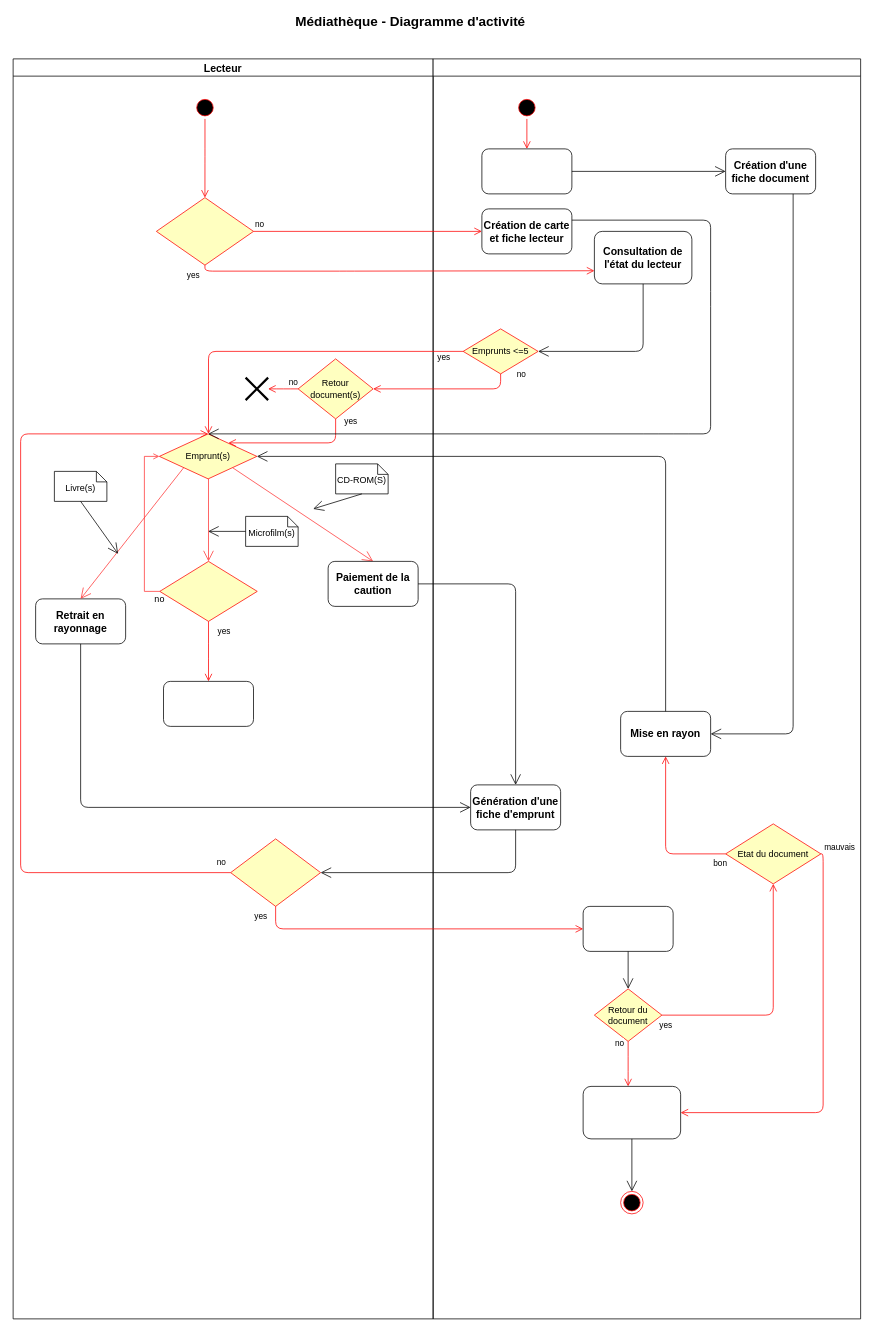
Image size: 874x1332. Some labels were removed from this diagram. Each missing label, with the box of its shape:
Achat de documents: (481, 148, 572, 194)
Consultation sur place: (163, 681, 254, 726)
Délai de retour > 4 semaines: (230, 838, 321, 906)
Ecran libre: (159, 561, 257, 621)
Employé: (432, 58, 861, 1319)
Envoi d'une lettre de relance: (582, 906, 673, 951)
Modification de la fiche document (perdu, volé, abîmé): (582, 1086, 681, 1139)
Présentation de la carte de lecteur: (156, 197, 254, 265)
